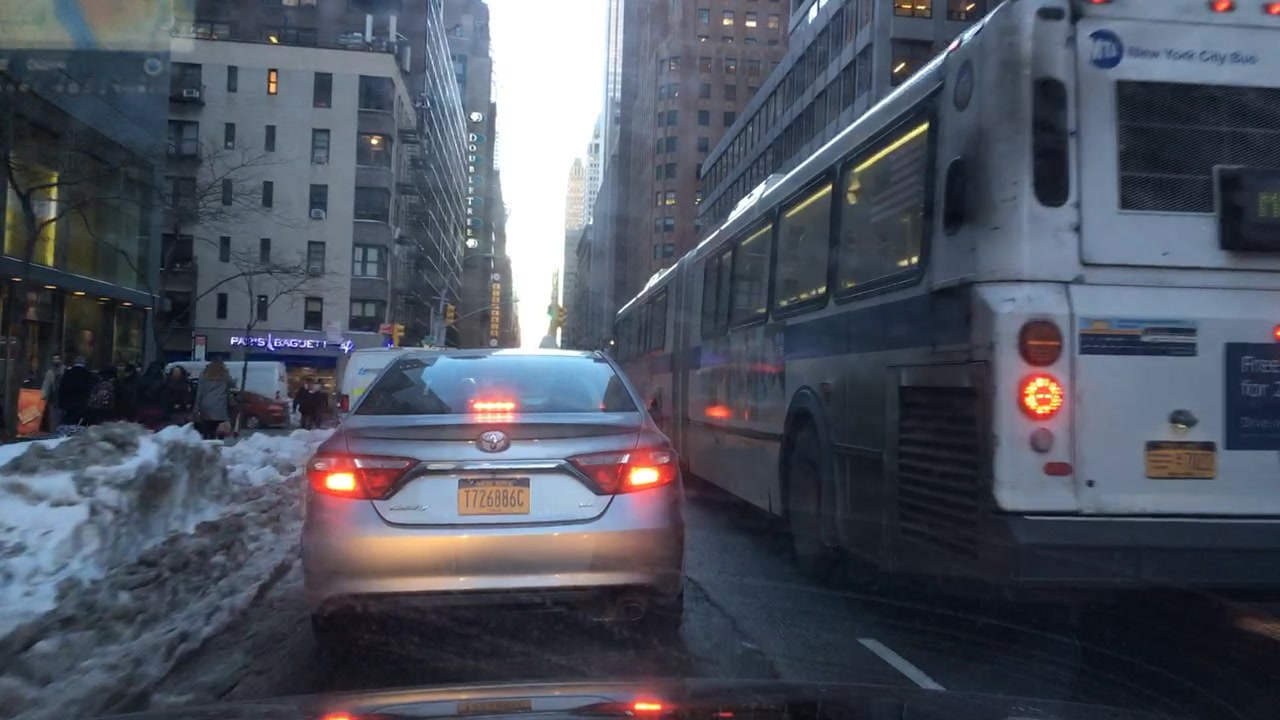licence: (454, 473, 532, 520)
